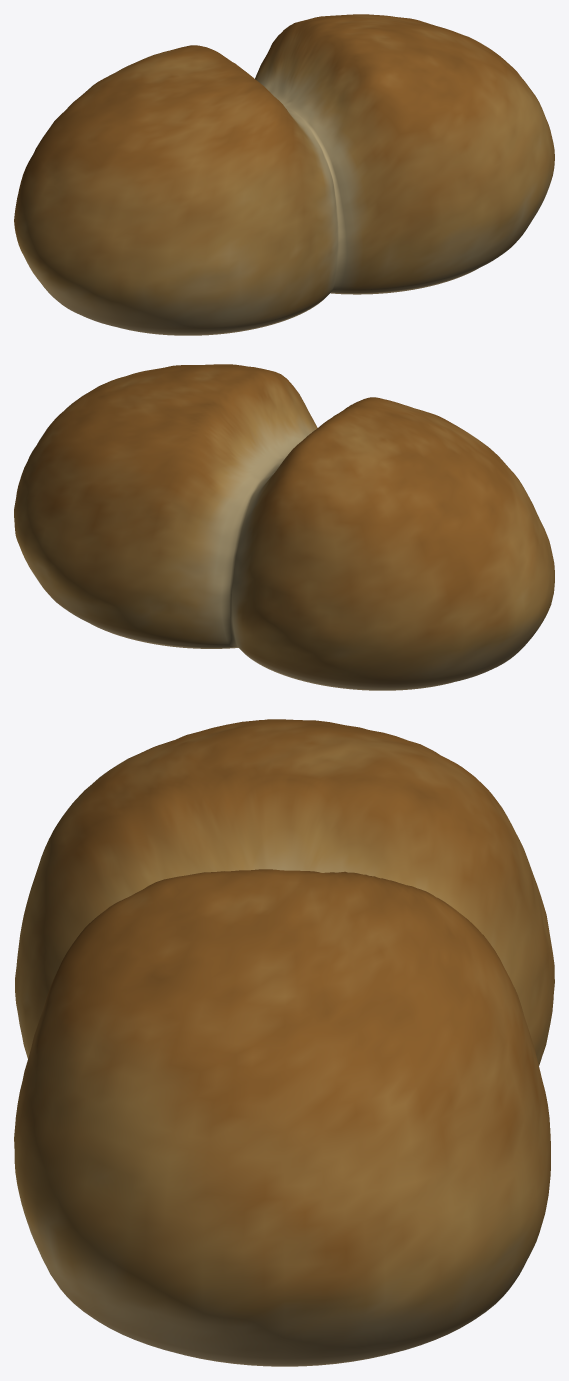
The model's file is doppelweck.glb.
3 renders of one model, top to bottom at view 1: azimuth 30°, elevation 25°; view 2: azimuth 150°, elevation 25°; view 3: azimuth 270°, elevation 25°, orthographic. The views are drawn at different scales.
Visible parts, largest first — view 1: doppelweck; view 2: doppelweck; view 3: doppelweck.
Boxes of the visible parts, x1=… form: doppelweck: x1=14, y1=14, x2=554, y2=335; doppelweck: x1=14, y1=364, x2=554, y2=690; doppelweck: x1=14, y1=719, x2=554, y2=1366.
Size of the model in its own units: 0.15 by 0.06 by 0.08.
